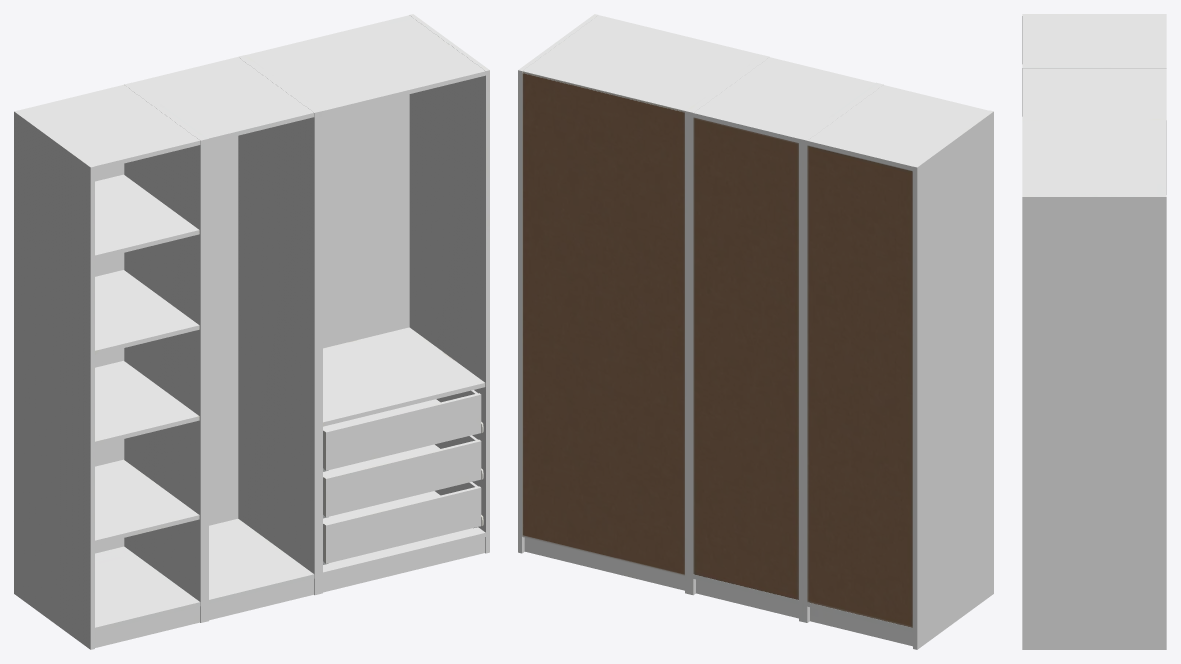
File: pax_szafa_69128567.glb
The picture shows the model from 3 angles, left to right: view 1: azimuth 30°, elevation 25°; view 2: azimuth 150°, elevation 25°; view 3: azimuth 270°, elevation 25°; orthographic projection. The views are drawn at different scales.
Parts seen in each view (by area): view 1: pax_szafa_69128567; view 2: pax_szafa_69128567; view 3: pax_szafa_69128567.
Boxes of the visible parts, left/top/right/bottom form: pax_szafa_69128567: left=14, top=14, right=489, bottom=649; pax_szafa_69128567: left=518, top=14, right=993, bottom=649; pax_szafa_69128567: left=1022, top=14, right=1166, bottom=649.
Size of the model in its own units: 1.74 by 2.01 by 0.58.
Materials: 1 (1 with a texture image).
